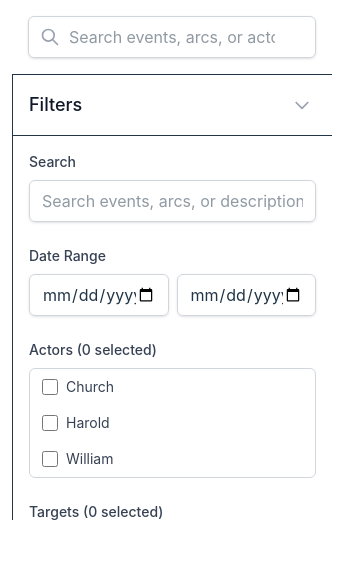
Scenario: FilterPanelContainer › writes a selected actor into the store and surfaces it as an active filter
Click the checkbox labelled "William" at (50, 459), box left=42, top=451, right=58, bottom=467
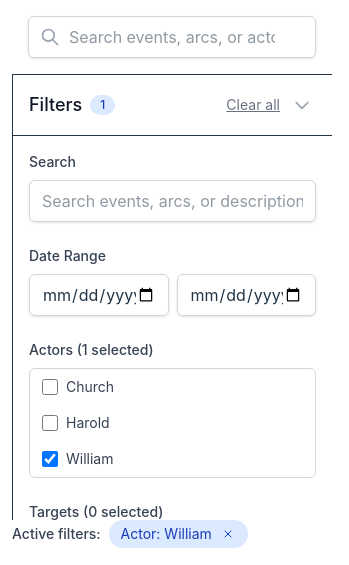
Now the text "Active filters:" is shown, box left=12, top=524, right=101, bottom=544
Now the text "Actor: William" is shown, box left=121, top=524, right=212, bottom=544
